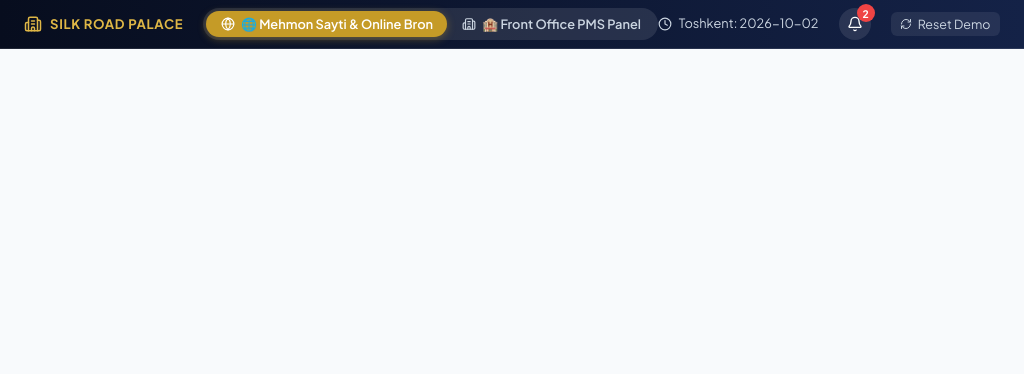
Test: SystemBanner Component Unit Tests › should toggle notifications dropdown when bell icon is clicked
The image size is (1024, 374).
Click the button titled "Xabarnomalar" at {"x": 854, "y": 24}, box [838,8,870,40]
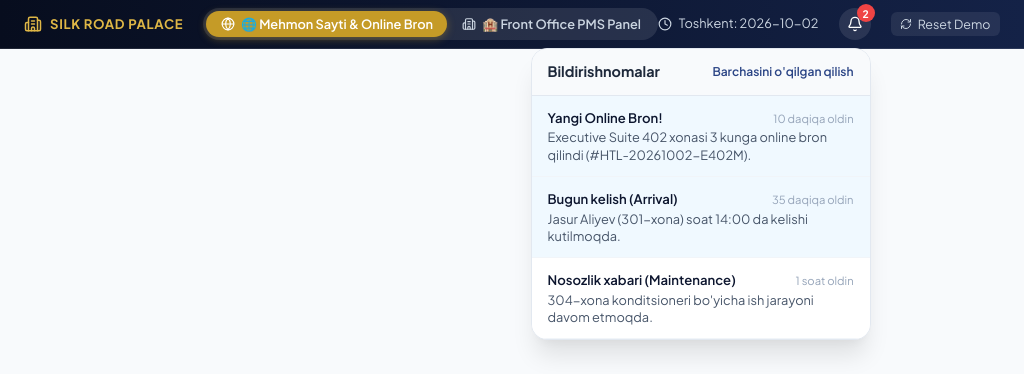
Now the text "Bildirishnomalar" is shown, box [548,61,660,83]
# Click again to close
Click the button titled "Xabarnomalar" at {"x": 854, "y": 24}, box [838,8,870,40]
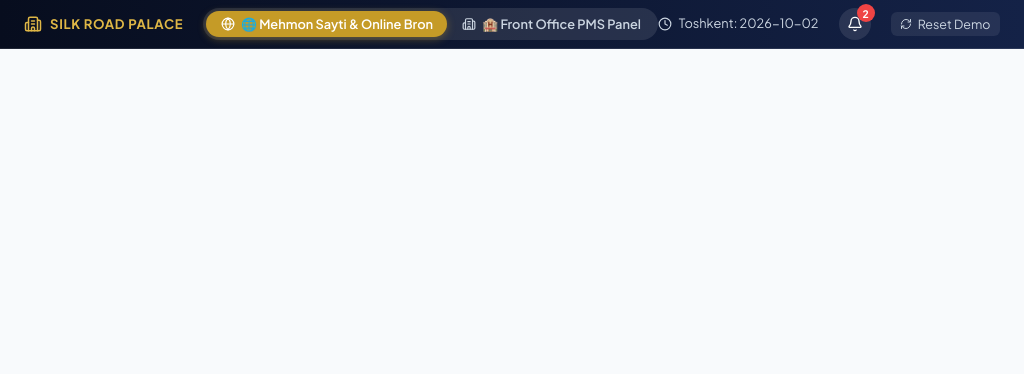
Now the text "Bildirishnomalar" is gone
